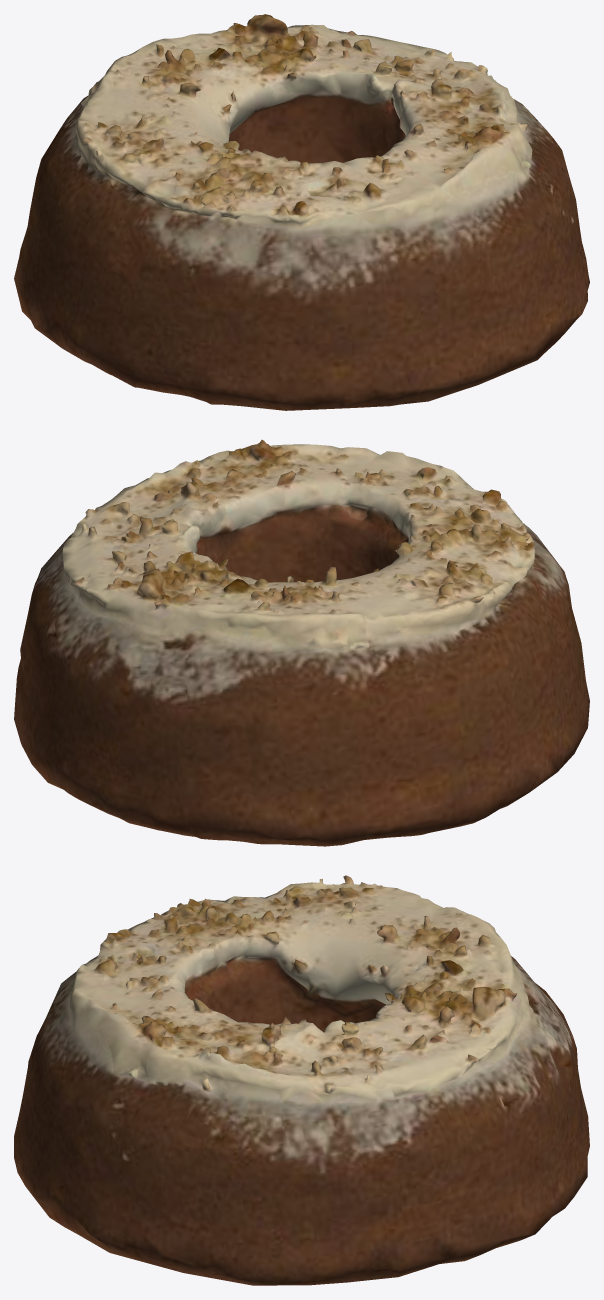
The picture shows the model from 3 angles, top to bottom: view 1: azimuth 30°, elevation 25°; view 2: azimuth 150°, elevation 25°; view 3: azimuth 270°, elevation 25°; orthographic projection. The views are drawn at different scales.
Visible parts, largest first — view 1: carrot_cake; view 2: carrot_cake; view 3: carrot_cake.
Boxes of the visible parts, x1,y1,x2,y2 form: carrot_cake: [14, 14, 589, 410]; carrot_cake: [14, 439, 589, 846]; carrot_cake: [14, 875, 589, 1285].
Bounding box in the file's own units: 0.2254 × 0.0976 × 0.2254.
1 material, 1 textured.
